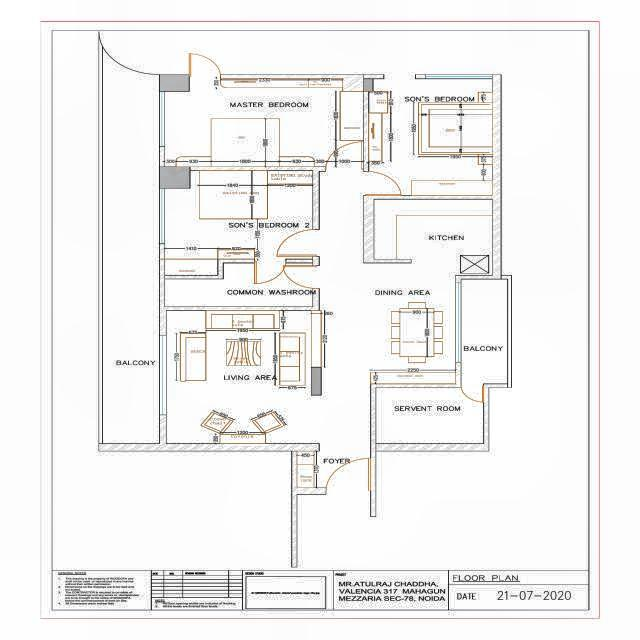room: (101, 75, 159, 442), (167, 311, 309, 442), (164, 78, 363, 167), (164, 169, 314, 276), (369, 80, 491, 194), (370, 276, 456, 383), (374, 199, 489, 275), (164, 263, 313, 306), (376, 386, 483, 443), (463, 280, 507, 383)
